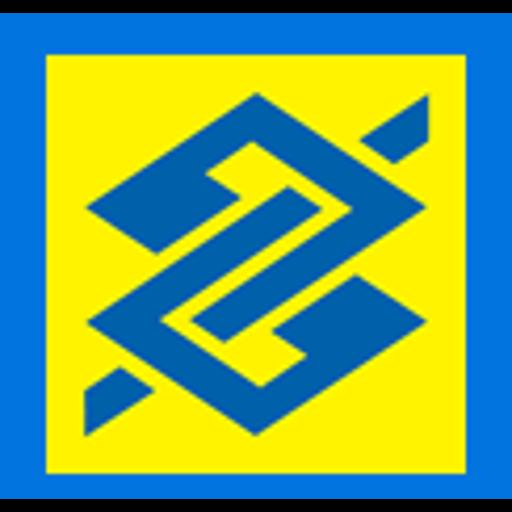Banco do Brasil S-A: (0, 13, 512, 499)
